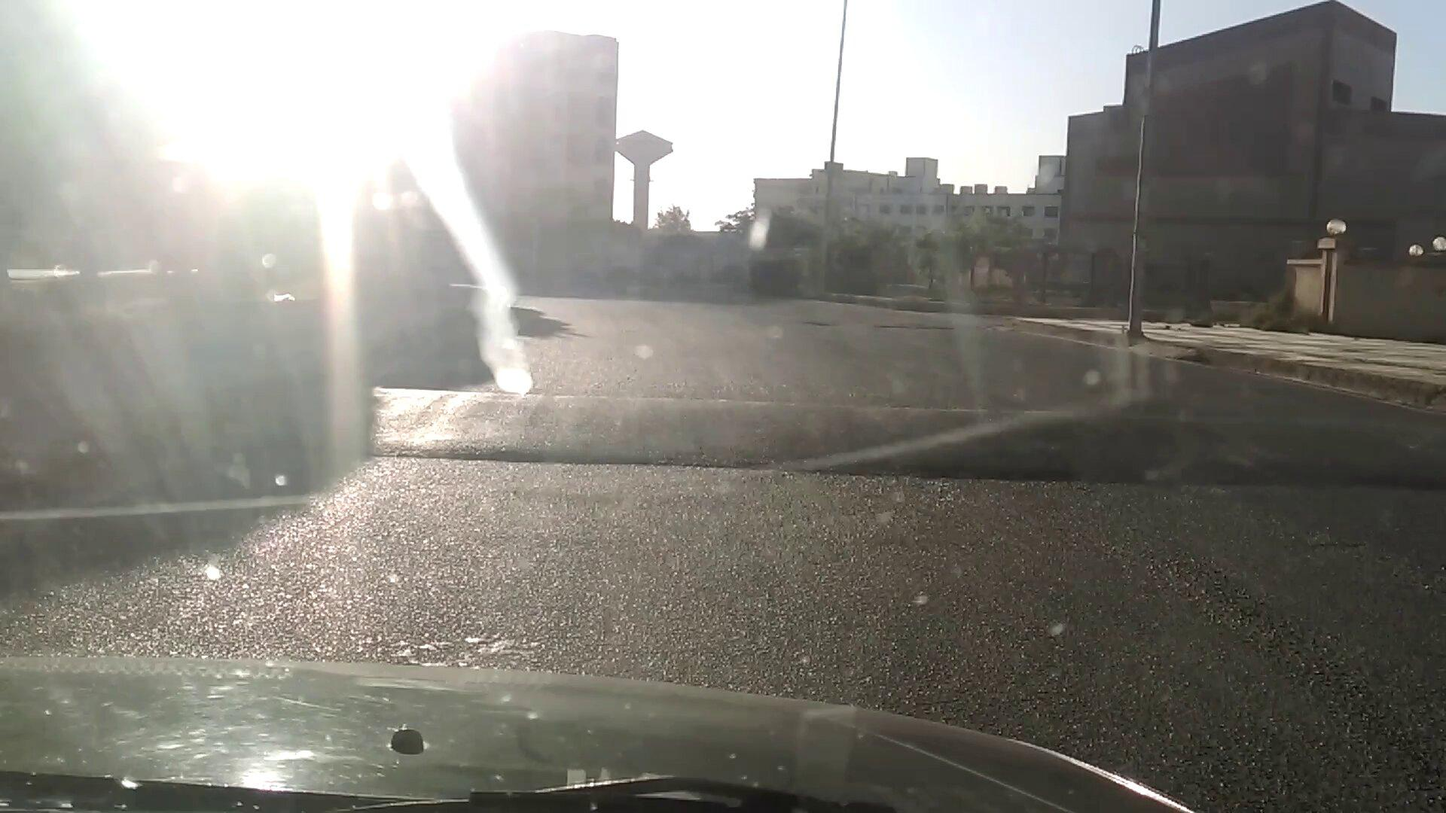Bump: (345, 395, 1446, 480)
